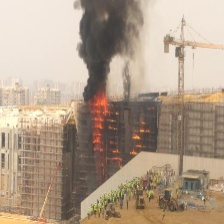fire: (90, 92, 108, 150), (129, 119, 148, 158)
smoke: (73, 1, 149, 98)
